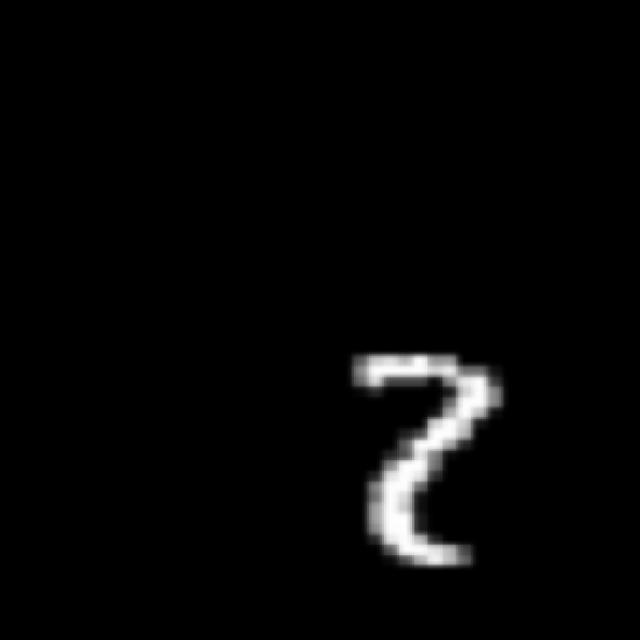two -2-: (334, 347, 513, 570)
